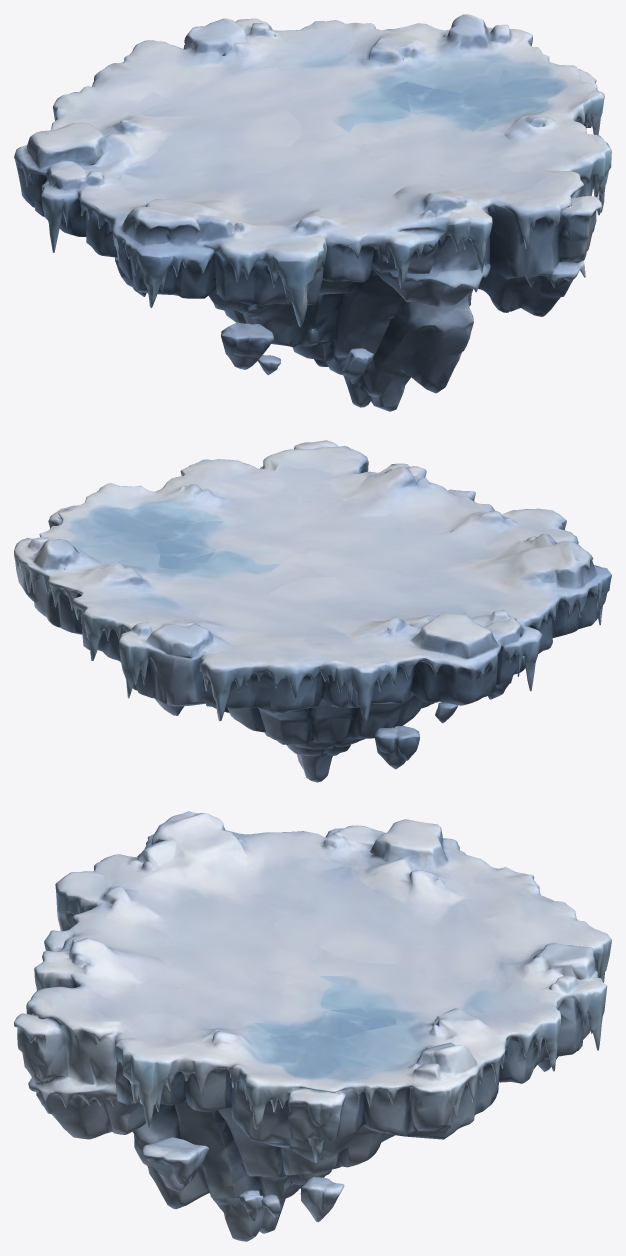
File: R2_Island_Plateau.fbx
The picture shows the model from 3 angles, top to bottom: view 1: azimuth 30°, elevation 25°; view 2: azimuth 150°, elevation 25°; view 3: azimuth 270°, elevation 25°; orthographic projection. The views are drawn at different scales.
Parts seen in each view (by area): view 1: R2_Island_Plateau; view 2: R2_Island_Plateau; view 3: R2_Island_Plateau.
Part boxes in pixels (x1,y1,x2,y2): R2_Island_Plateau: (14,14,611,411); R2_Island_Plateau: (14,440,611,782); R2_Island_Plateau: (14,811,611,1241).
Bounding box in the file's own units: 900 × 450 × 830.
1 material, 1 textured.
